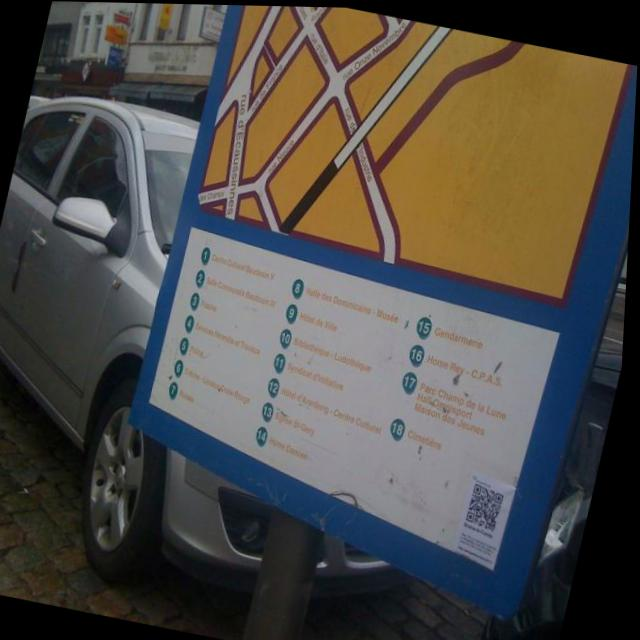qrcode: (471, 482, 510, 530)
